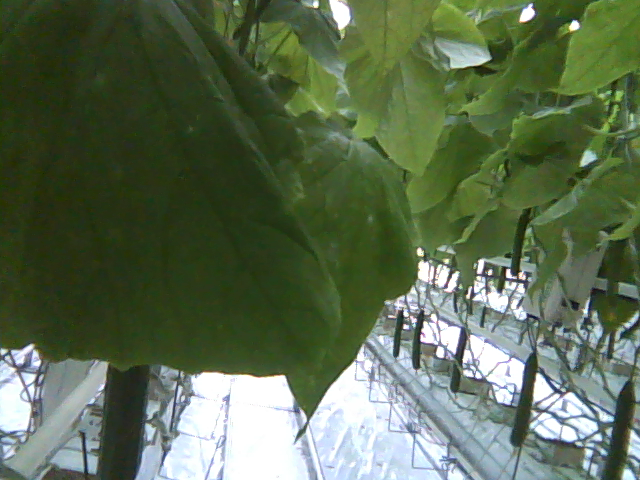concombre: (91, 357, 153, 480)
